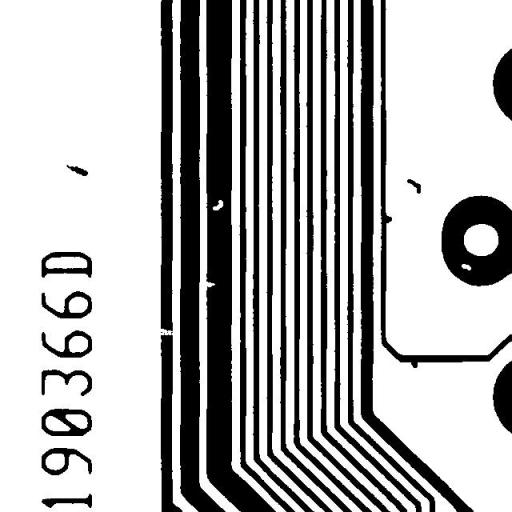copper: (58, 157, 96, 183), (399, 171, 428, 201)
mousebite: (198, 274, 222, 294)
open: (148, 321, 182, 342)
pin-hole: (205, 192, 230, 218), (454, 256, 478, 278)
spur: (402, 350, 425, 375), (376, 208, 399, 230)
